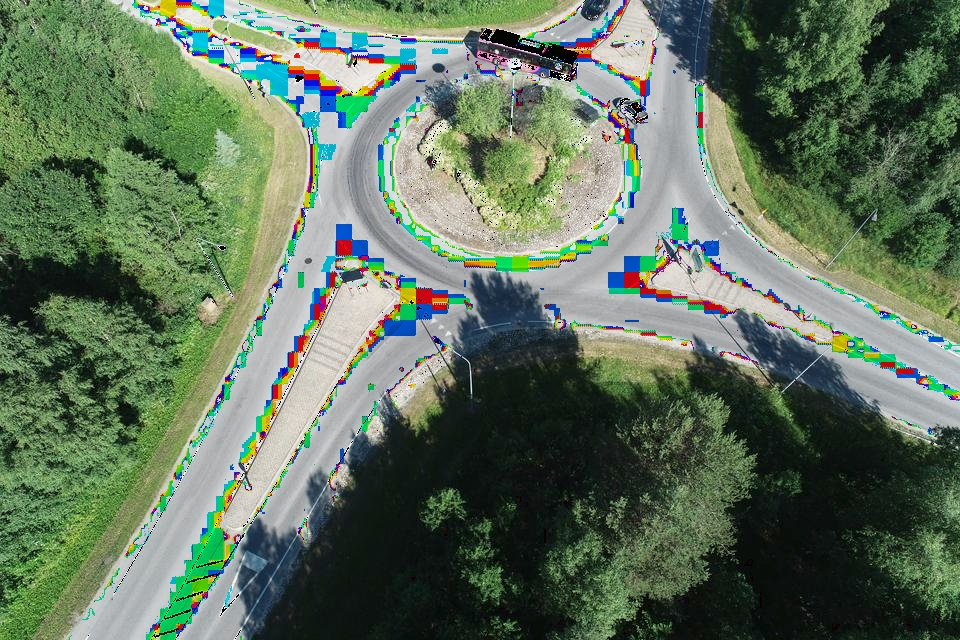roundabout: (233, 0, 768, 403)
